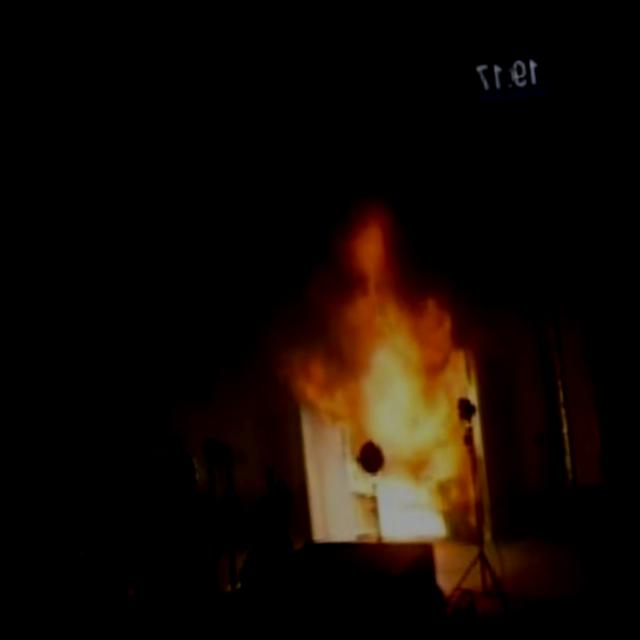fire: (284, 197, 487, 500)
smoke: (0, 0, 631, 307)
